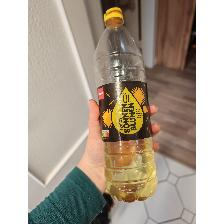Oel: (92, 7, 158, 203)
